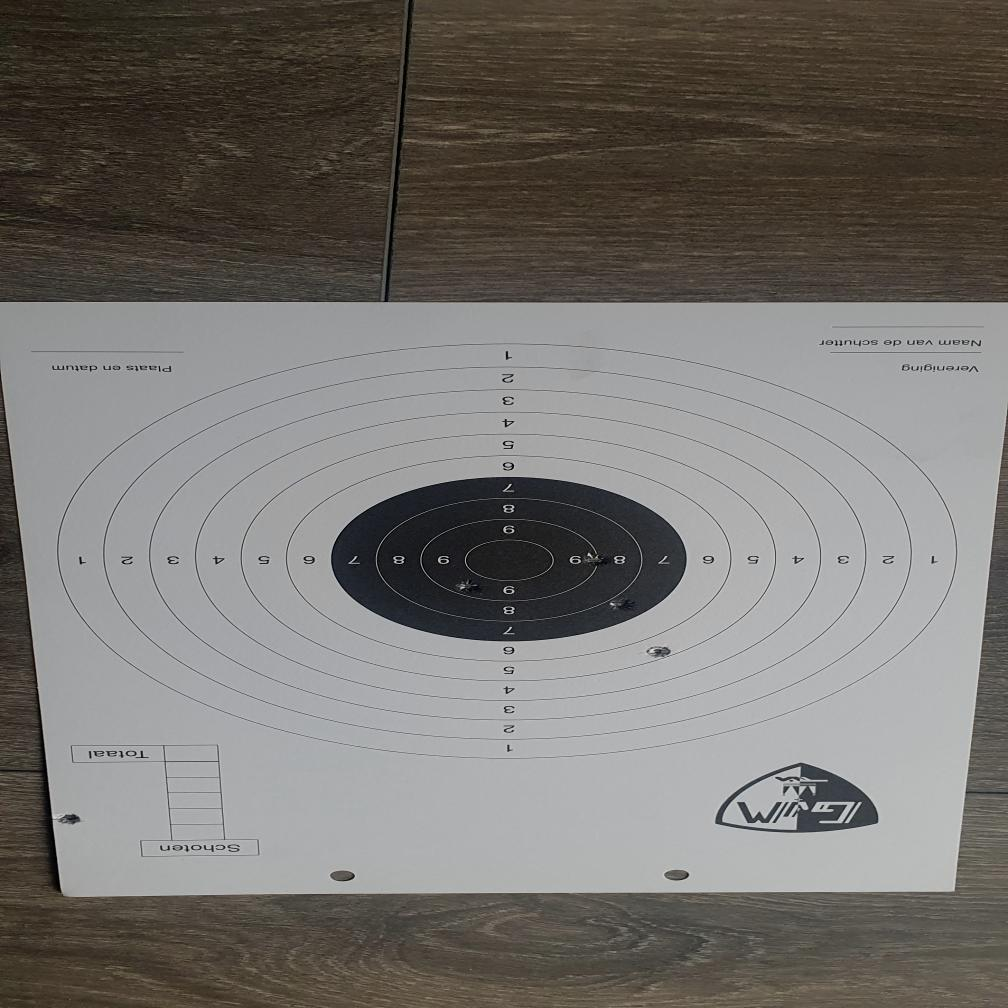0: (52, 811, 87, 827)
5: (643, 645, 674, 659)
7: (606, 597, 639, 612)
9: (449, 578, 484, 595), (582, 554, 612, 568)
Target: (55, 342, 960, 761)
black_contour: (332, 478, 686, 642)
